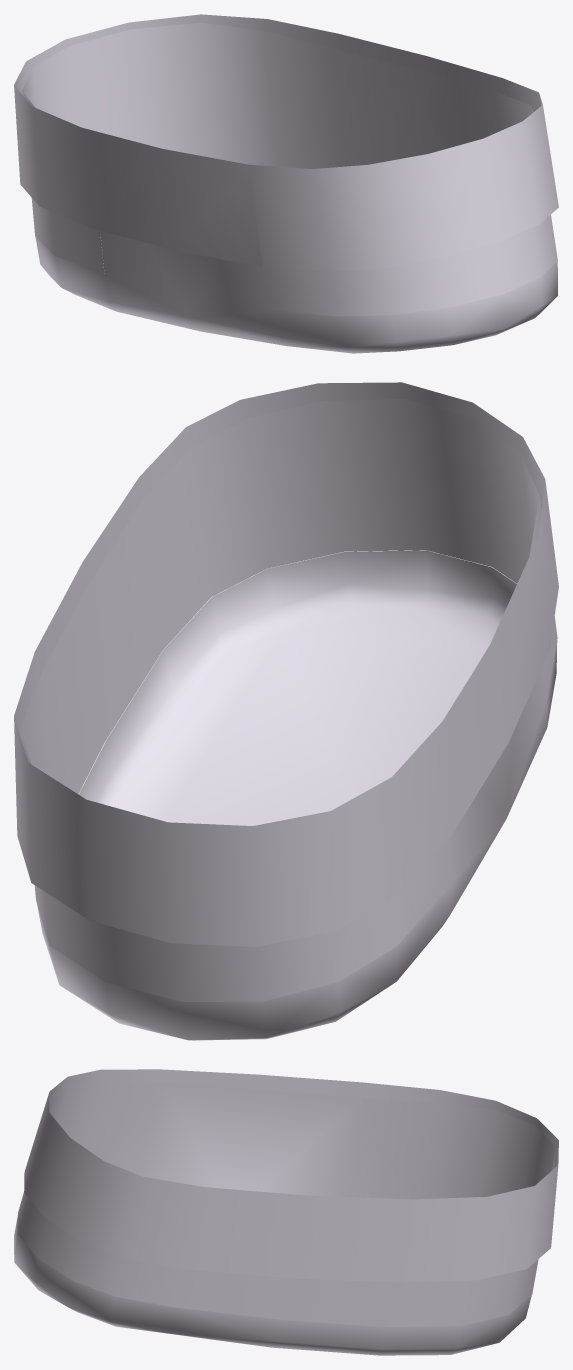
File: btn_options.obj
3 views of the same model, one above another, from view 1: azimuth 30°, elevation 25°; view 2: azimuth 150°, elevation 25°; view 3: azimuth 270°, elevation 25° (orthographic). The views are drawn at different scales.
Visible parts, largest first — view 1: btn_options; view 2: btn_options; view 3: btn_options.
Part boxes in pixels (<box>): btn_options: <box>14,14,558,353</box>; btn_options: <box>14,382,558,1040</box>; btn_options: <box>14,1069,558,1355</box>.
Bounding box in the file's own units: 0.055 × 0.0439 × 0.0906.
